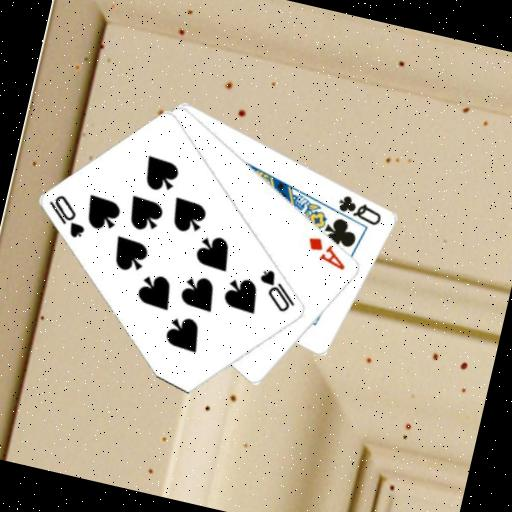10S: (250, 264, 304, 317), (40, 189, 94, 242)
AD: (301, 232, 353, 274)
QC: (332, 190, 387, 229)
